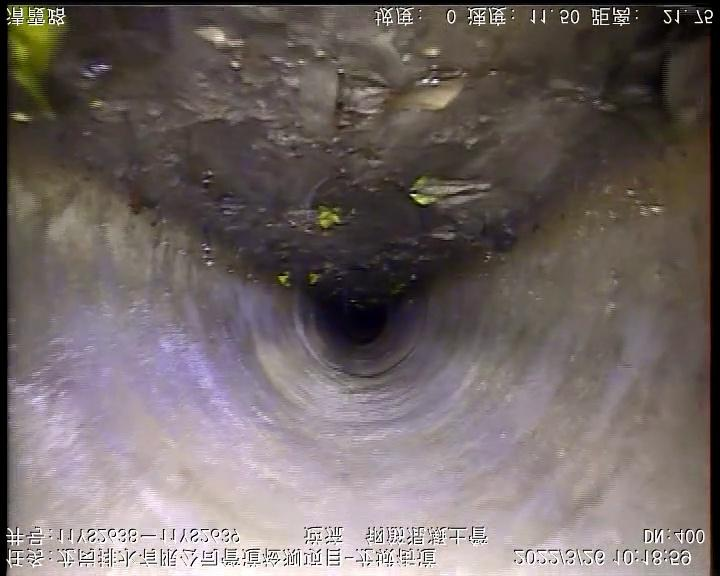CJ: (8, 6, 711, 321)
